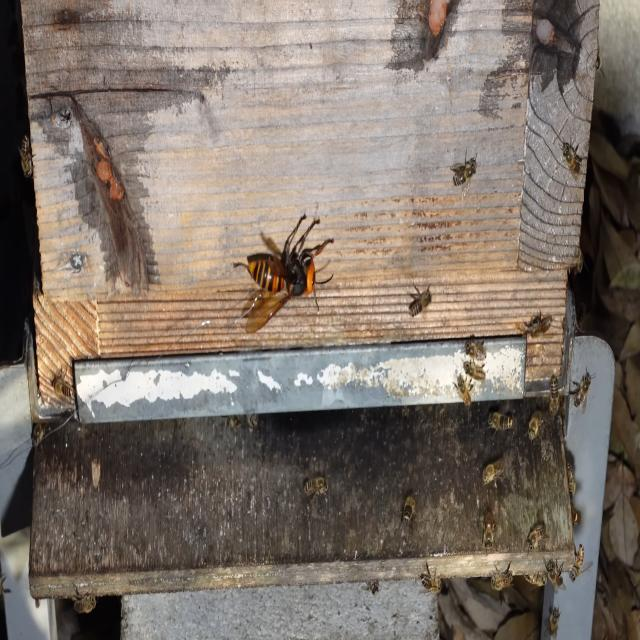Bees: (450, 150, 481, 199), (571, 364, 597, 413), (557, 136, 582, 179), (46, 362, 74, 400), (568, 541, 593, 583), (406, 284, 436, 318), (16, 134, 37, 179), (523, 309, 553, 340), (543, 556, 566, 592), (419, 559, 442, 595), (480, 504, 498, 549), (488, 562, 516, 590), (525, 519, 549, 550), (453, 371, 474, 405), (302, 476, 329, 502), (461, 357, 486, 384), (486, 411, 514, 435), (482, 458, 506, 484), (399, 494, 416, 529), (546, 602, 561, 640), (548, 375, 562, 415), (524, 568, 548, 590), (527, 410, 544, 440), (464, 336, 486, 359), (565, 458, 577, 498), (569, 501, 583, 528), (361, 580, 381, 595)
Hornets: (232, 213, 335, 336)
